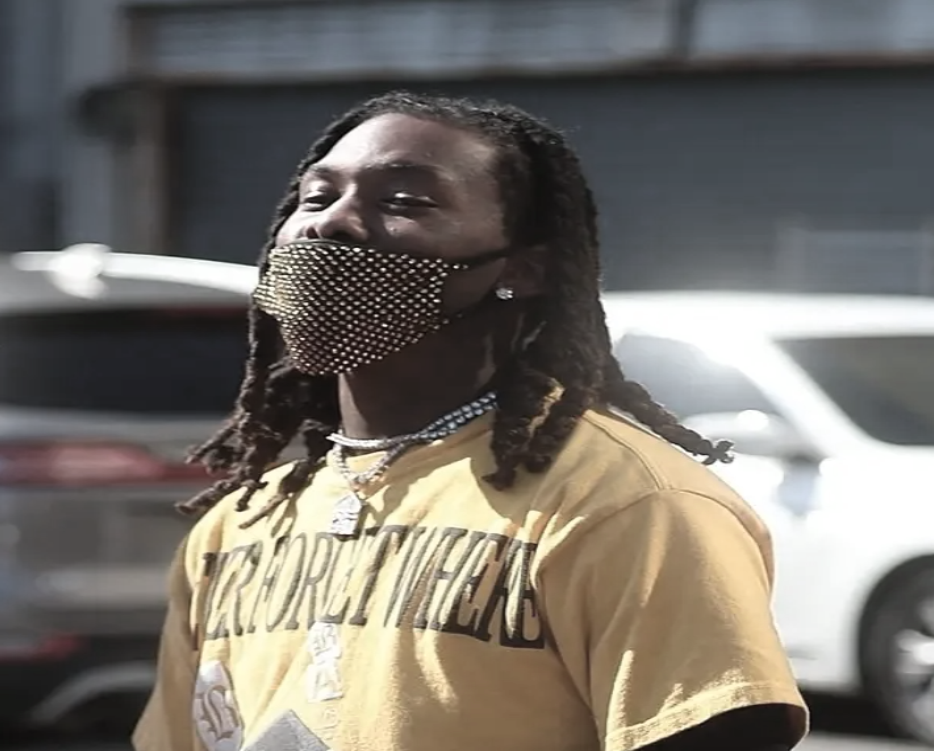mask_weared_incorrect: (246, 90, 593, 377)
